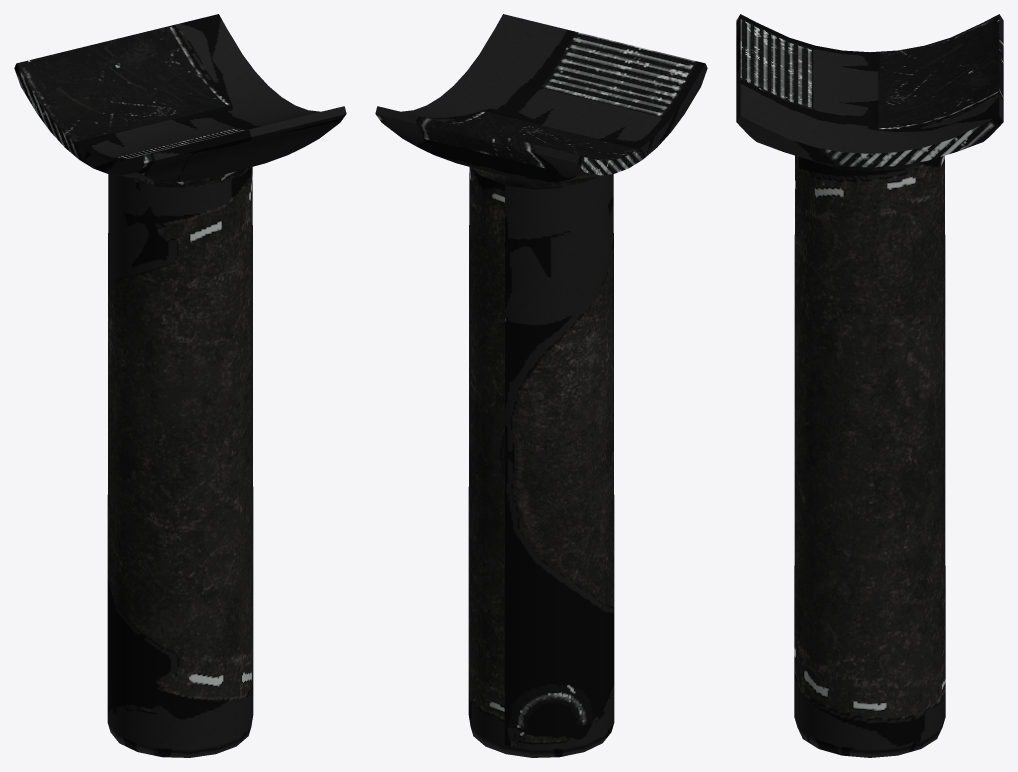
The model's file is BMX_Seat Post_Bestial_Prime.fbx.
3 views of the same model, side by side, from view 1: azimuth 30°, elevation 25°; view 2: azimuth 150°, elevation 25°; view 3: azimuth 270°, elevation 25° (orthographic). The views are drawn at different scales.
Visible parts, largest first — view 1: BMX_SeatPost_Bestial_Prime; view 2: BMX_SeatPost_Bestial_Prime; view 3: BMX_SeatPost_Bestial_Prime.
Boxes of the visible parts, x1,y1,x2,y2 form: BMX_SeatPost_Bestial_Prime: (14,14,346,757); BMX_SeatPost_Bestial_Prime: (375,14,707,757); BMX_SeatPost_Bestial_Prime: (736,14,1003,757).
Bounding box in the file's own units: 4.08 × 12.4 × 4.53.
